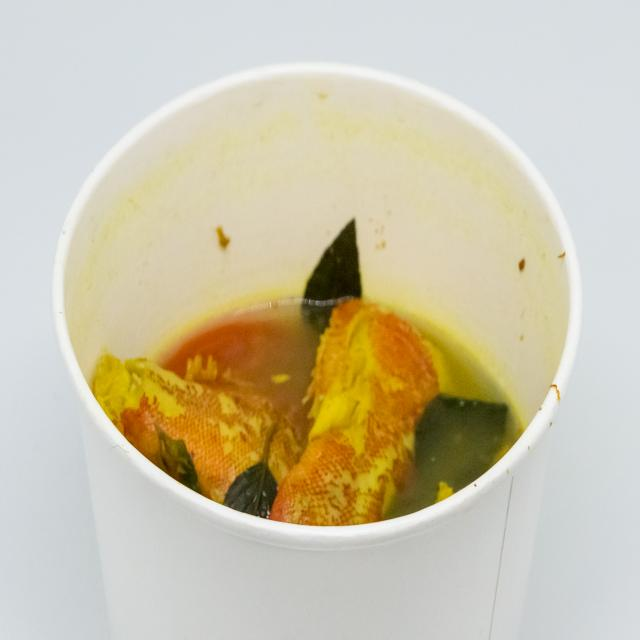Gulai-Ikan-Mas: (76, 190, 540, 550)
